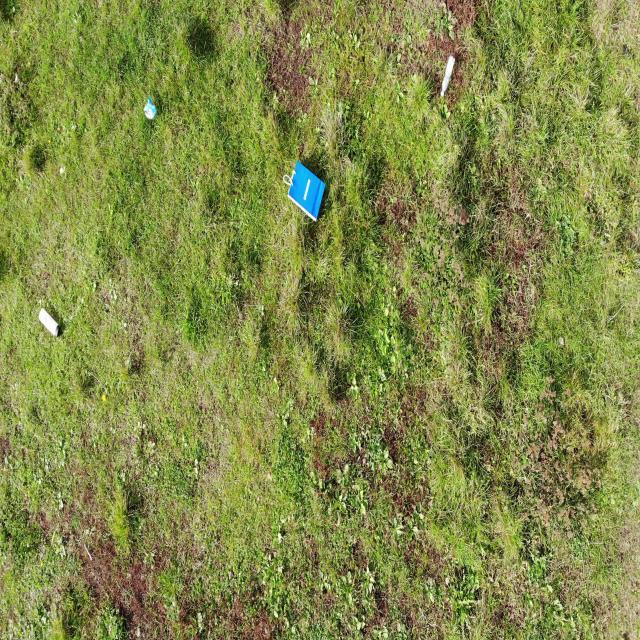rubbish: (286, 159, 326, 223), (38, 308, 61, 339), (440, 55, 455, 100), (144, 98, 158, 120)
